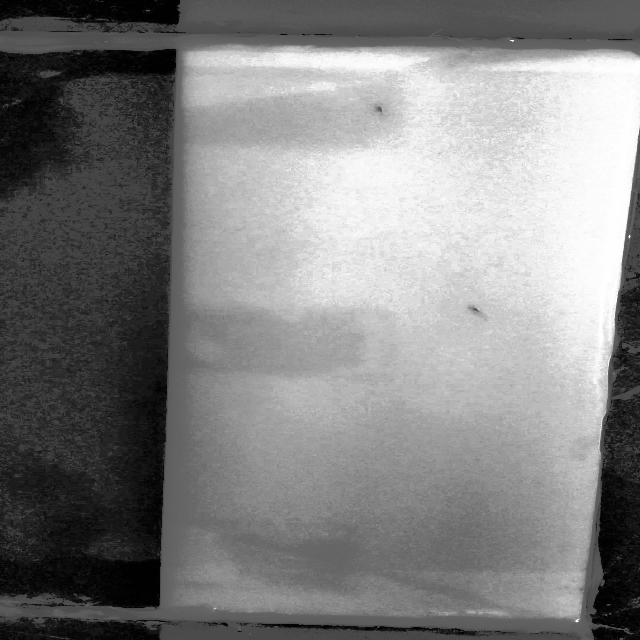shrimp: (466, 302, 490, 318), (368, 101, 388, 117)
